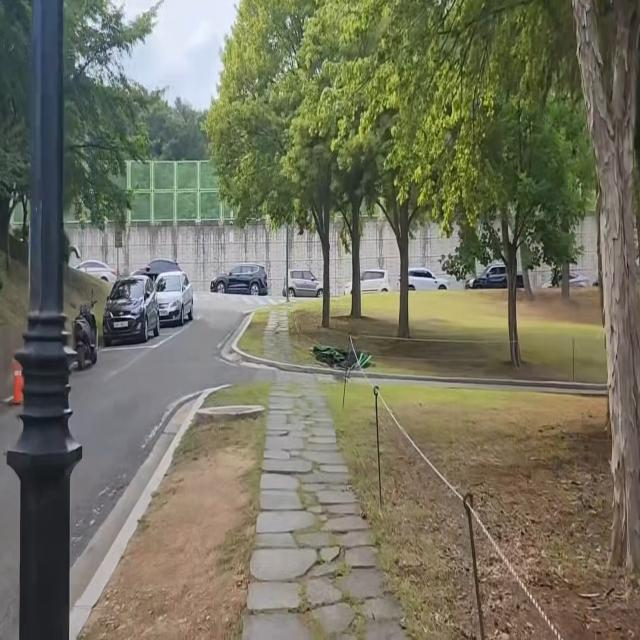obstacle: (6, 0, 83, 640), (102, 260, 201, 351), (70, 278, 103, 382)
road: (0, 308, 257, 640)
sidewalk: (240, 381, 428, 640), (263, 296, 299, 367)
